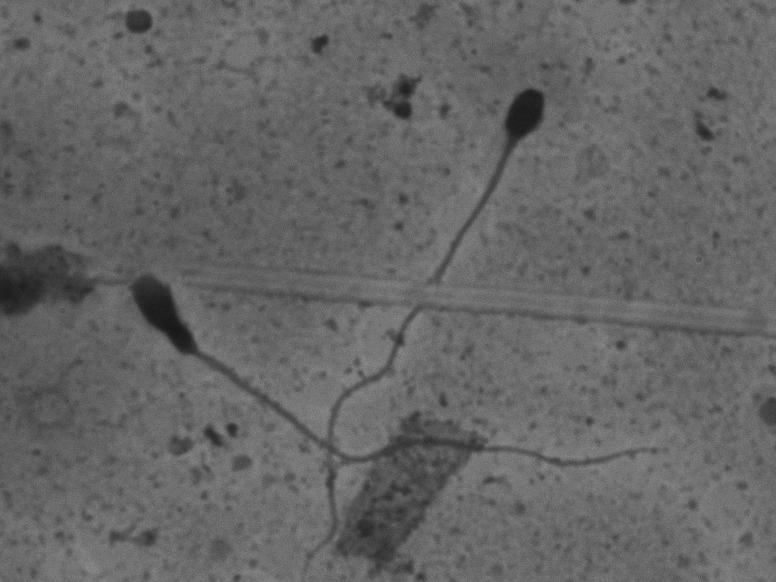Abnormal: (123, 263, 681, 472)
Normal: (281, 76, 558, 573)
